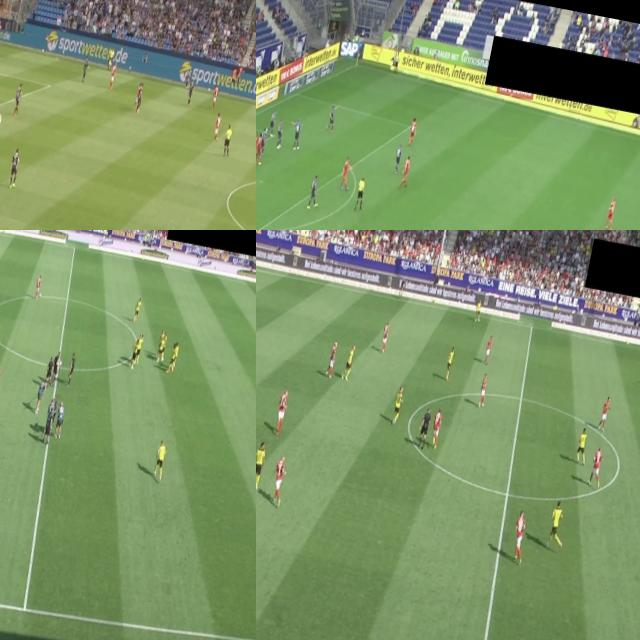ball: (59, 354, 64, 370)
player: (544, 495, 572, 557), (506, 512, 532, 564), (268, 454, 292, 506), (586, 442, 608, 488), (274, 388, 292, 438), (151, 438, 170, 485), (256, 438, 271, 491), (428, 408, 446, 452), (440, 345, 460, 383), (326, 336, 342, 381), (343, 334, 358, 382), (6, 147, 22, 190), (476, 372, 494, 408), (306, 172, 323, 210), (390, 386, 406, 426), (288, 116, 306, 150), (602, 196, 619, 230), (576, 428, 592, 463), (399, 153, 414, 188), (11, 82, 25, 118), (340, 154, 354, 190), (598, 396, 612, 432), (379, 316, 393, 352), (324, 103, 340, 132), (256, 125, 270, 156), (391, 144, 406, 171), (406, 114, 419, 144), (274, 118, 287, 148), (80, 54, 92, 84), (132, 81, 144, 111), (483, 332, 495, 362), (256, 132, 267, 163), (160, 330, 170, 364), (108, 61, 119, 90), (266, 110, 278, 136), (212, 113, 222, 143), (134, 332, 144, 362), (130, 338, 140, 368), (473, 296, 484, 323), (32, 274, 42, 303), (186, 80, 196, 108), (210, 84, 220, 112), (136, 84, 144, 116), (168, 346, 177, 374), (171, 341, 180, 369), (157, 330, 166, 358), (156, 338, 166, 363), (133, 297, 142, 323), (182, 71, 194, 90), (256, 131, 259, 161)
